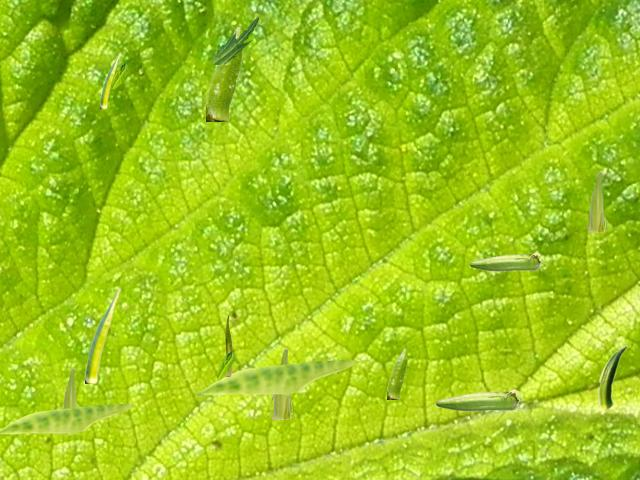okra: (206, 26, 242, 120), (85, 288, 119, 382), (597, 345, 626, 410), (435, 389, 522, 410), (269, 348, 292, 418), (469, 252, 543, 270), (586, 171, 605, 231), (100, 52, 119, 107), (387, 348, 406, 398), (63, 368, 76, 407), (225, 315, 231, 375)
